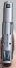pistol: (1, 1, 16, 66)
